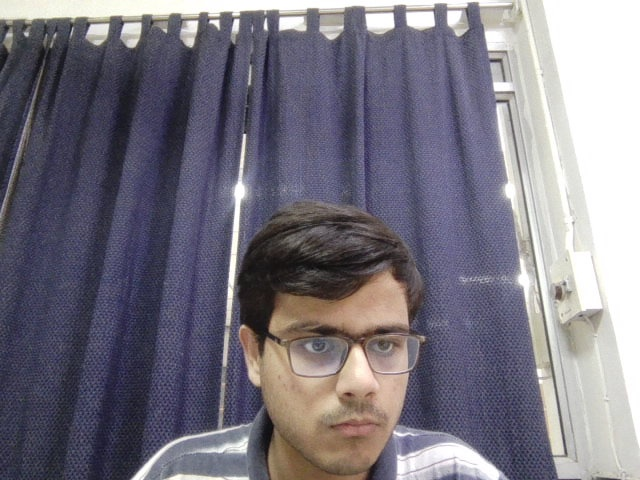face: (239, 204, 427, 478)
